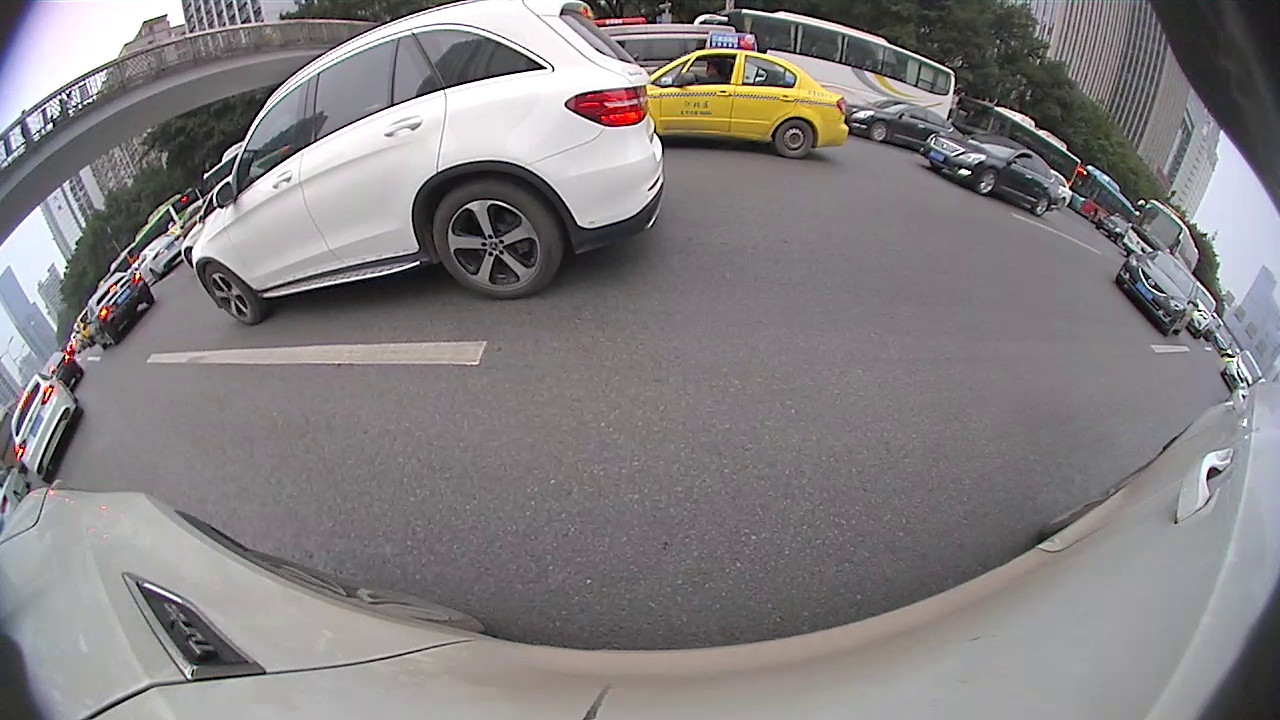bus: (711, 5, 956, 127), (960, 98, 1083, 188), (1122, 191, 1202, 278), (1067, 161, 1139, 238)
car: (190, 2, 669, 327), (633, 46, 852, 161), (922, 121, 1063, 220), (12, 370, 86, 483), (1117, 250, 1200, 339), (845, 91, 951, 150), (84, 267, 157, 349), (132, 233, 183, 285), (1217, 346, 1263, 392)
front: (202, 263, 260, 326), (976, 171, 996, 196), (871, 121, 888, 143)
rear: (431, 180, 561, 298), (774, 119, 813, 156), (1034, 196, 1048, 217)
